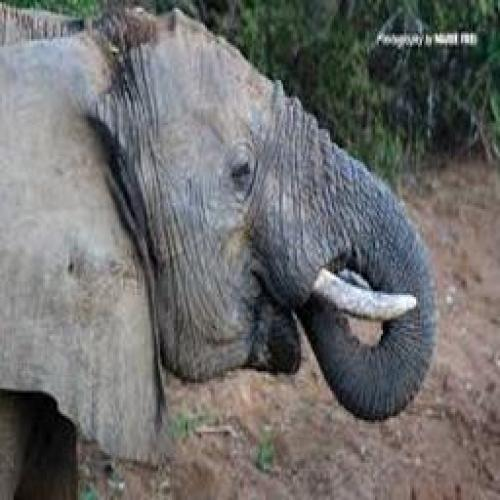african_elephant-endangered: (2, 6, 438, 500)
